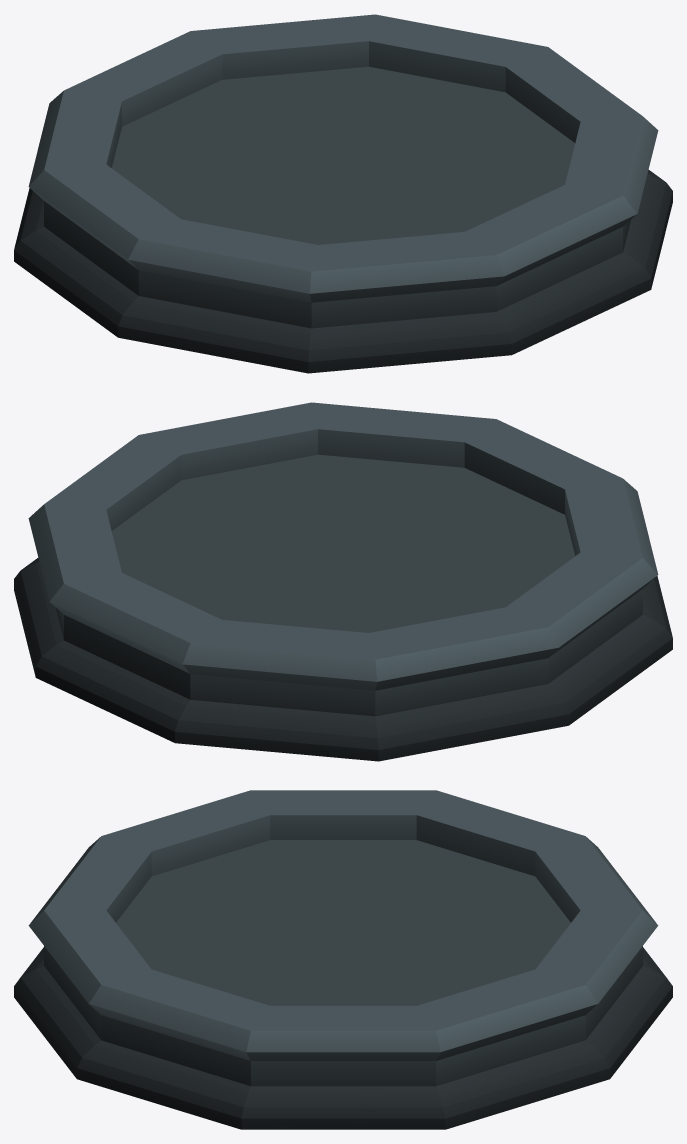
The model's file is FlatVase_Base.fbx.
3 views of the same model, one above another, from view 1: azimuth 30°, elevation 25°; view 2: azimuth 150°, elevation 25°; view 3: azimuth 270°, elevation 25° (orthographic). The views are drawn at different scales.
Visible parts, largest first — view 1: FlatVase_Base; view 2: FlatVase_Base; view 3: FlatVase_Base.
Part boxes in pixels (x1,y1,x2,y2): FlatVase_Base: (14, 14, 672, 373); FlatVase_Base: (14, 402, 672, 761); FlatVase_Base: (14, 790, 672, 1129).
Bounding box in the file's own units: 240 × 36.7 × 252.
